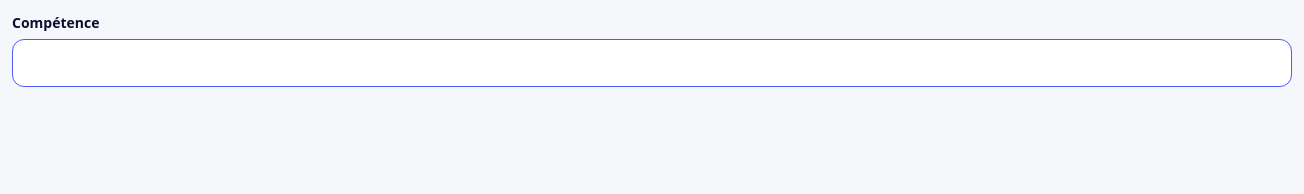
Suggest › offers what you typed when it is in no list
Type "Soudure TIG" into the dropdown at (652, 63), box [12, 39, 1292, 87]
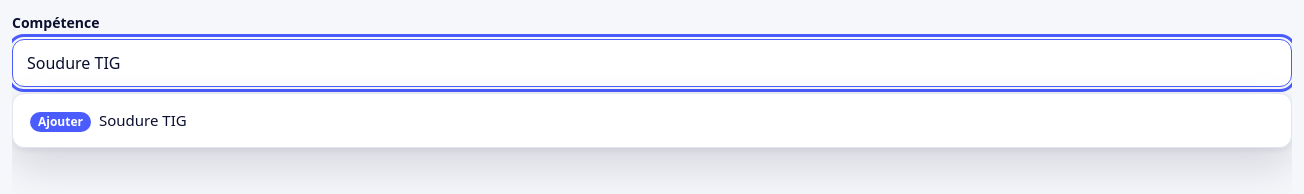
Expected: the option shows "Soudure TIG", [30, 110, 187, 132]
